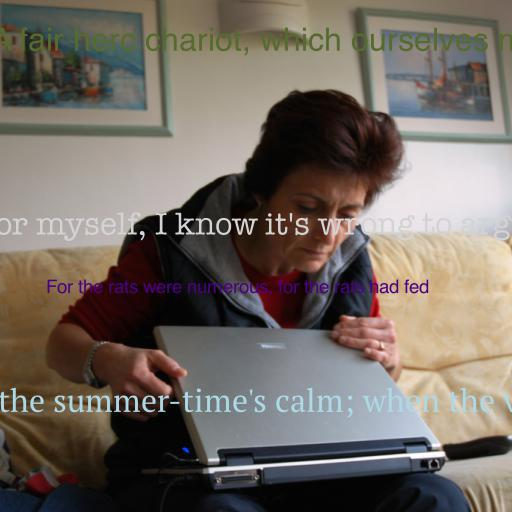American Typewriter: (0, 212, 512, 241)
Apple Chancery: (0, 27, 512, 58)
Helvetica: (45, 279, 429, 296)
PT Serif: (0, 387, 512, 419)
